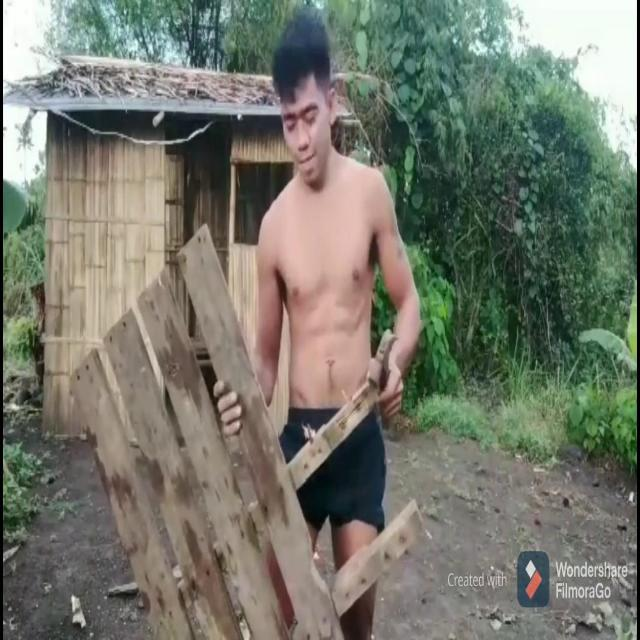hammer: (368, 328, 400, 431)
